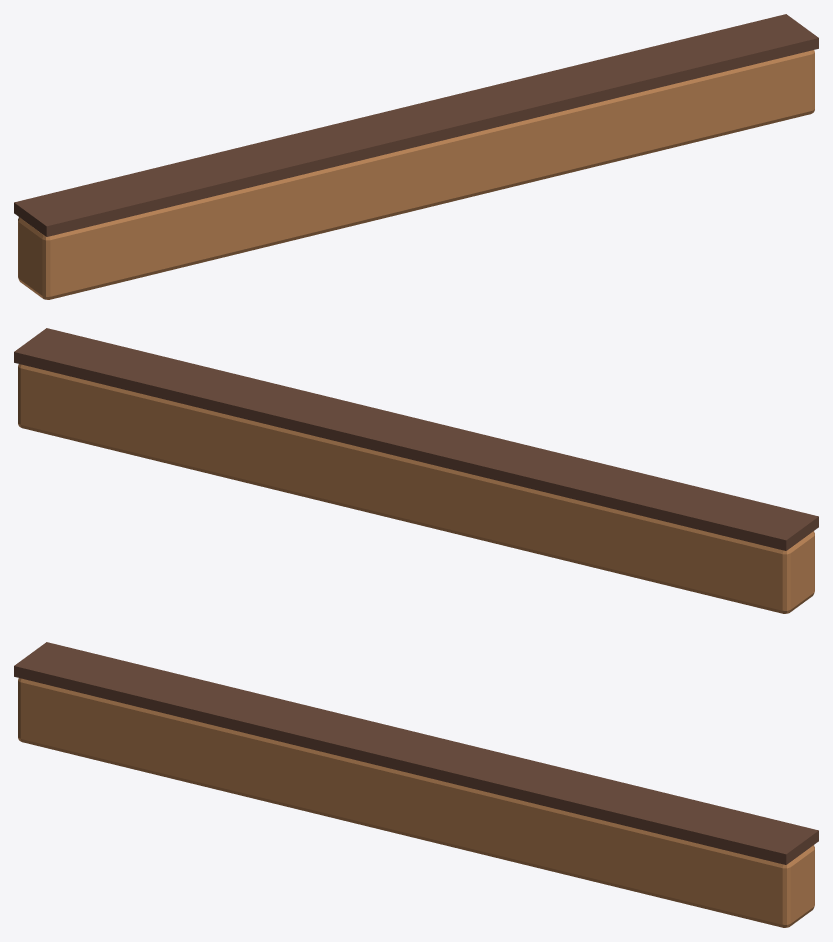
The model's file is ceiling_beam.glb.
3 views of the same model, one above another, from view 1: azimuth 30°, elevation 25°; view 2: azimuth 150°, elevation 25°; view 3: azimuth 330°, elevation 25° (orthographic).
Parts seen in each view (by area): view 1: ceiling_beam; view 2: ceiling_beam; view 3: ceiling_beam.
Boxes of the visible parts, left/top/right/bottom form: ceiling_beam: left=14, top=14, right=818, bottom=299; ceiling_beam: left=14, top=328, right=818, bottom=613; ceiling_beam: left=14, top=642, right=818, bottom=927.
Size of the model in its own units: 3 by 0.29 by 0.22.
